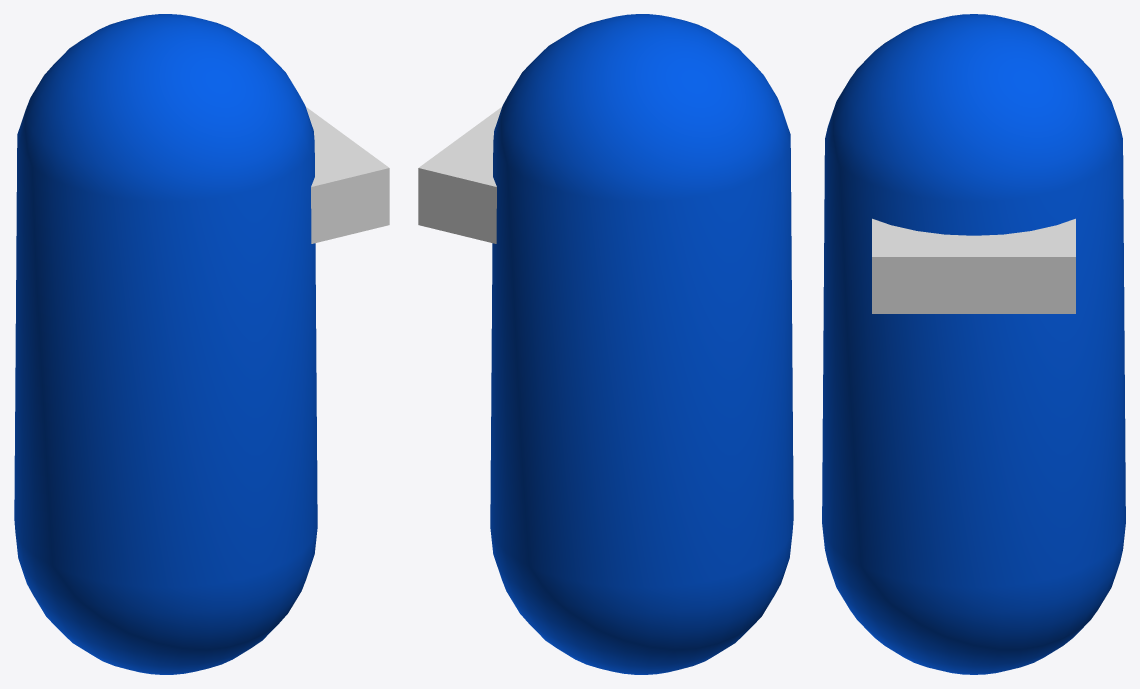
The model's file is bluemogus.fbx.
3 renders of one model, left to right at view 1: azimuth 30°, elevation 25°; view 2: azimuth 150°, elevation 25°; view 3: azimuth 270°, elevation 25°, orthographic.
Parts seen in each view (by area): view 1: Sphere, Cube; view 2: Sphere, Cube; view 3: Sphere, Cube.
Boxes of the visible parts, bbox=[...] form: Sphere: bbox=[14, 14, 317, 674]; Cube: bbox=[306, 107, 389, 243]; Sphere: bbox=[490, 14, 793, 674]; Cube: bbox=[418, 107, 501, 243]; Sphere: bbox=[822, 14, 1125, 674]; Cube: bbox=[872, 218, 1075, 313].
Size of the model in its own units: 162 by 322 by 140.
